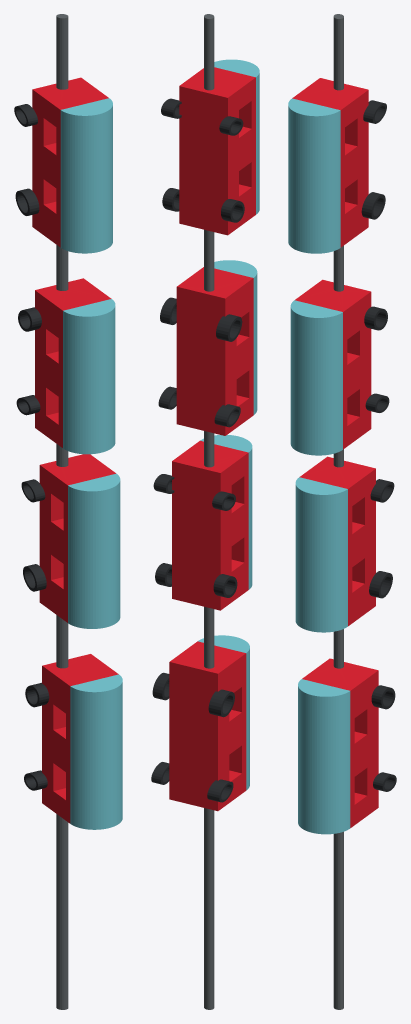
Rendered from tinker.obj.
3 renders of one model, left to right at view 1: azimuth 30°, elevation 25°; view 2: azimuth 150°, elevation 25°; view 3: azimuth 330°, elevation 25°, orthographic.
Parts seen in each view (by area): view 1: group_0_7720667, group_0_15277357, group_0_6383466, group_0_2829873; view 2: group_0_15277357, group_0_2829873, group_0_6383466, group_0_7720667; view 3: group_0_7720667, group_0_15277357, group_0_6383466, group_0_2829873.
Boxes of the visible parts, x1=… form: group_0_7720667: x1=60, y1=98, x2=122, y2=829; group_0_15277357: x1=32, y1=77, x2=118, y2=823; group_0_6383466: x1=56, y1=14, x2=68, y2=1009; group_0_2829873: x1=14, y1=104, x2=49, y2=790; group_0_15277357: x1=169, y1=67, x2=255, y2=811; group_0_2829873: x1=151, y1=98, x2=244, y2=802; group_0_6383466: x1=204, y1=14, x2=214, y2=1009; group_0_7720667: x1=198, y1=59, x2=259, y2=790; group_0_7720667: x1=288, y1=98, x2=350, y2=834; group_0_15277357: x1=292, y1=78, x2=378, y2=827; group_0_6383466: x1=333, y1=14, x2=343, y2=1009; group_0_2829873: x1=361, y1=100, x2=396, y2=791.
Bounding box in the file's own units: 32 × 389 × 36.
